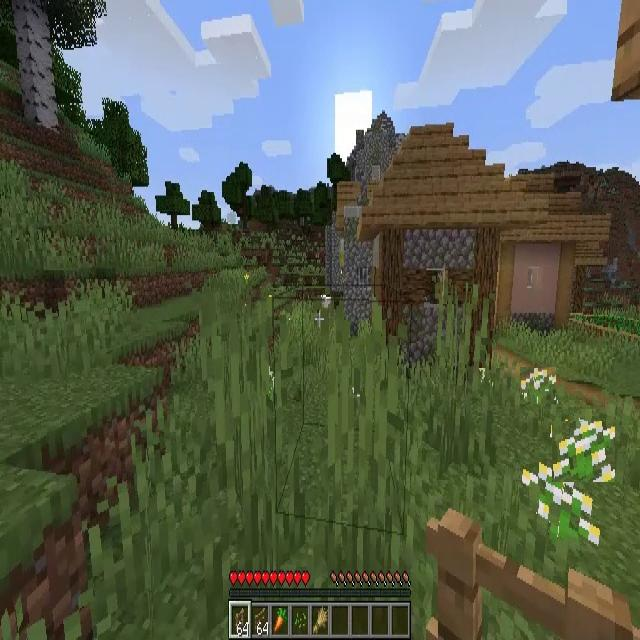flower: (520, 464, 599, 547), (552, 421, 615, 482), (520, 367, 556, 404)
sheep: (321, 294, 331, 311)
